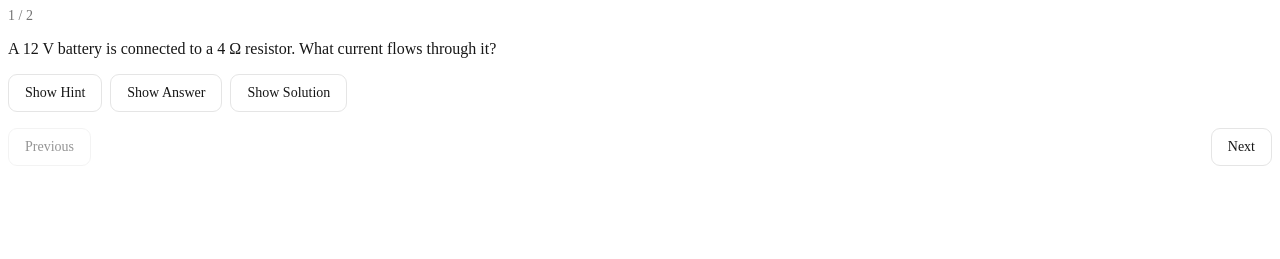
it: PracticeProblems › shows answer
The image size is (1280, 259).
Click the button "Show Answer": (166, 93) [110, 74, 222, 112]
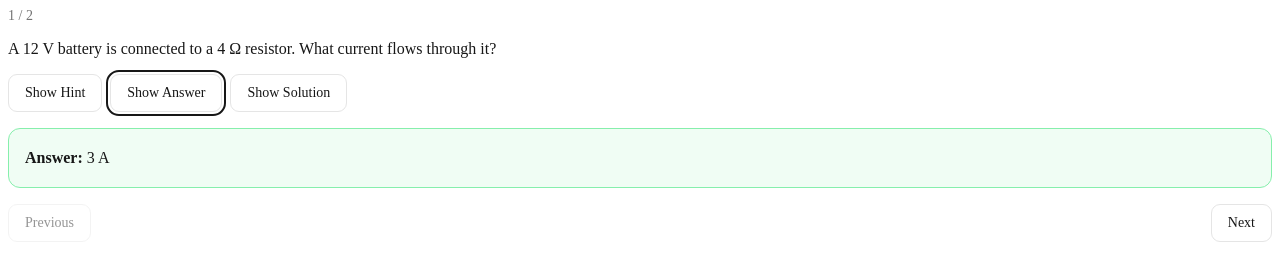
Now the text "3 A" is shown, box [87, 149, 110, 166]
